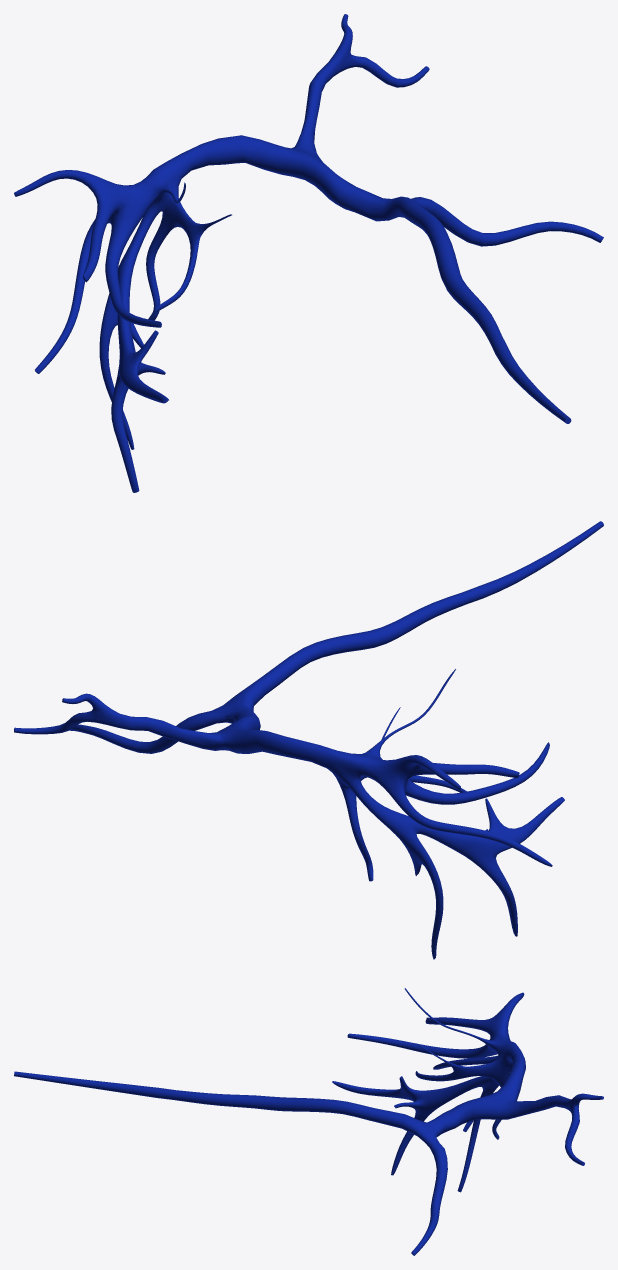
The model's file is Portal_Vein.FBX.
3 renders of one model, top to bottom at view 1: azimuth 30°, elevation 25°; view 2: azimuth 150°, elevation 25°; view 3: azimuth 270°, elevation 25°, orthographic. The views are drawn at different scales.
Visible parts, largest first — view 1: Portal_Vein-Snapshot; view 2: Portal_Vein-Snapshot; view 3: Portal_Vein-Snapshot.
Boxes of the visible parts, left/top/right/bottom form: Portal_Vein-Snapshot: left=14, top=14, right=603, bottom=492; Portal_Vein-Snapshot: left=14, top=521, right=603, bottom=959; Portal_Vein-Snapshot: left=14, top=988, right=603, bottom=1255.
Bounding box in the file's own units: 196 × 98.46 × 252.
